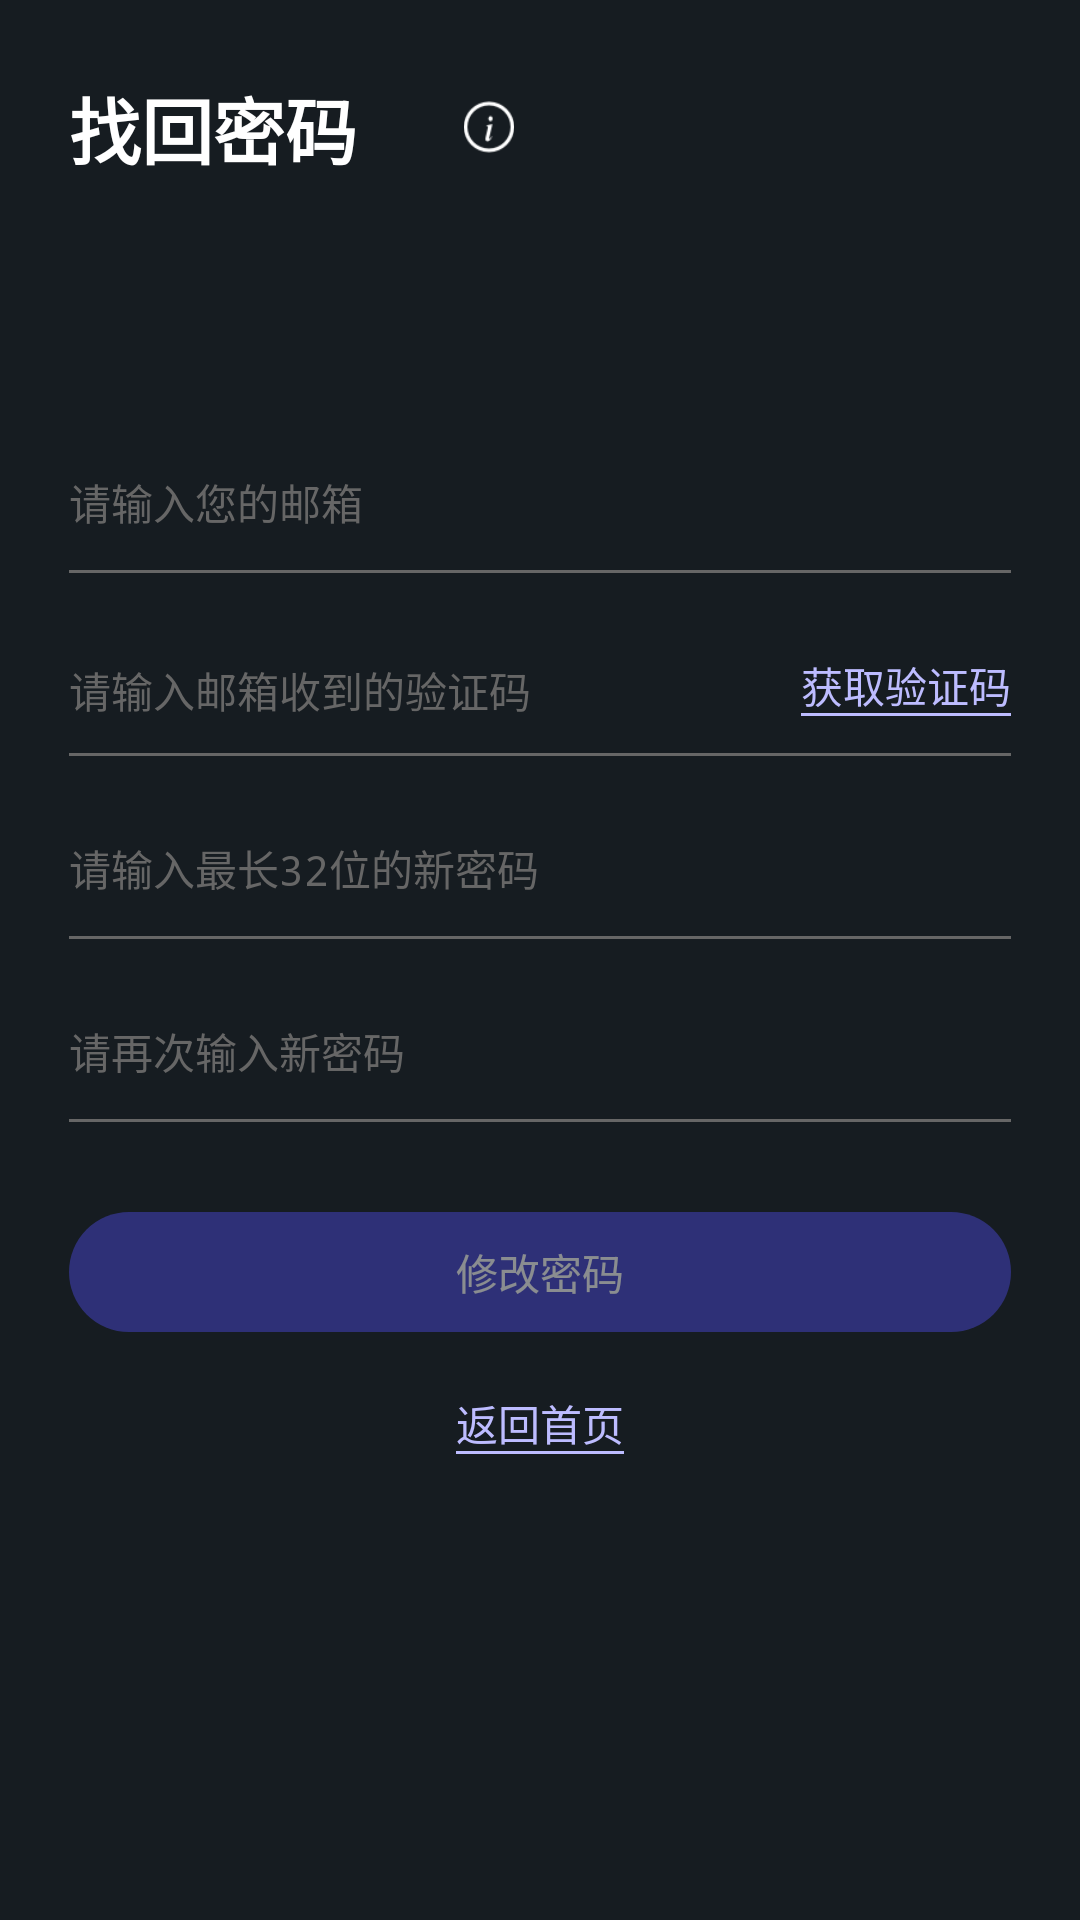

Named icons in this screenshot (1080px×1920px) and their bounding boxes, bbox=(x1, y1, x2, y2):
tishi: bbox=(464, 101, 514, 153)
